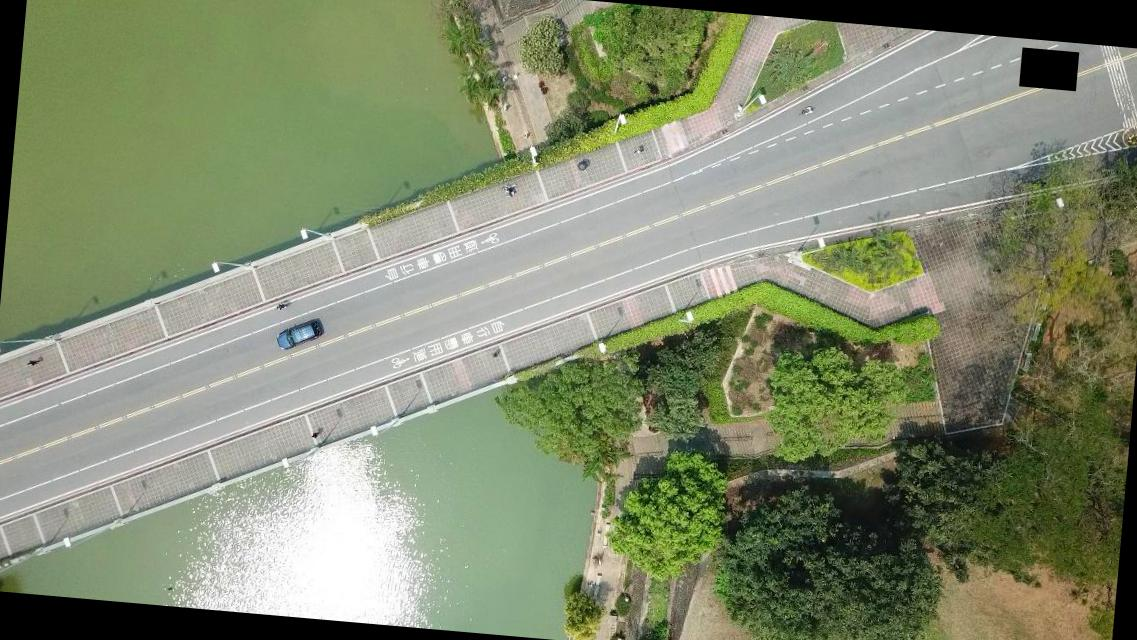vehicle: (275, 317, 323, 353)
